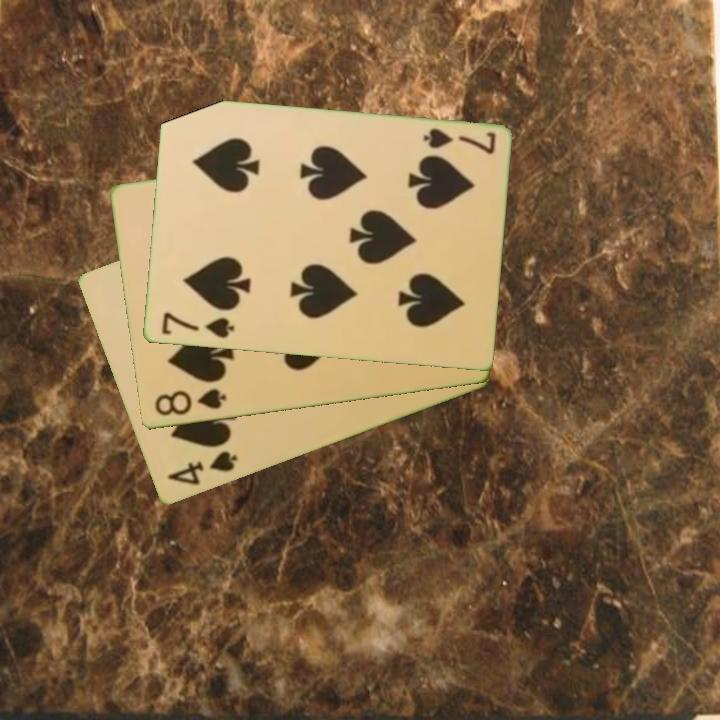4s: (163, 448, 241, 489)
7s: (157, 308, 237, 342), (419, 125, 498, 158)
8s: (150, 385, 229, 419)
